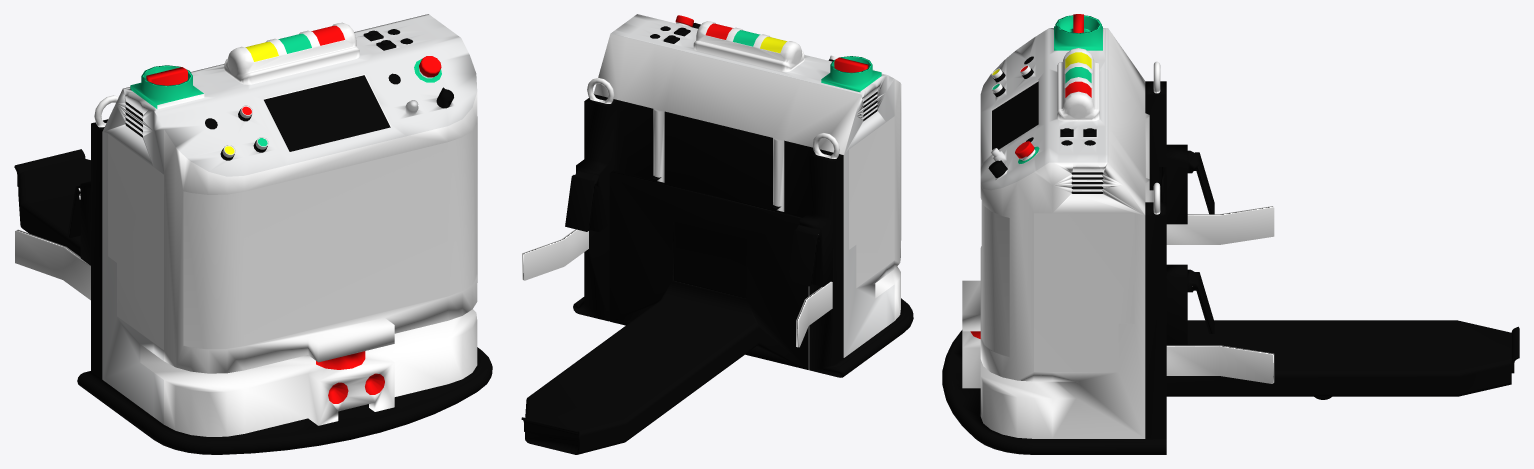
File: robot-2001.glb
3 renders of one model, left to right at view 1: azimuth 30°, elevation 25°; view 2: azimuth 150°, elevation 25°; view 3: azimuth 270°, elevation 25°, orthographic. The views are drawn at different scales.
Parts seen in each view (by area): view 1: btl; view 2: btl; view 3: btl.
Part boxes in pixels (x1,y1,x2,y2): btl: [14, 14, 492, 454]; btl: [521, 14, 913, 454]; btl: [942, 14, 1519, 454].
Size of the model in its own units: 0.6648 by 0.65 by 1.09.
